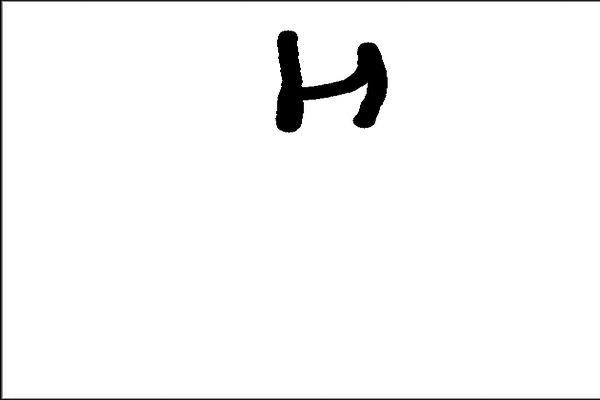H: (264, 24, 388, 138)
